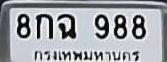8: (131, 14, 145, 38), (113, 13, 126, 38), (16, 13, 29, 37)
9: (94, 13, 108, 38)
A01: (35, 13, 52, 38)
A09: (57, 13, 75, 38)
BKK: (31, 48, 142, 62)
